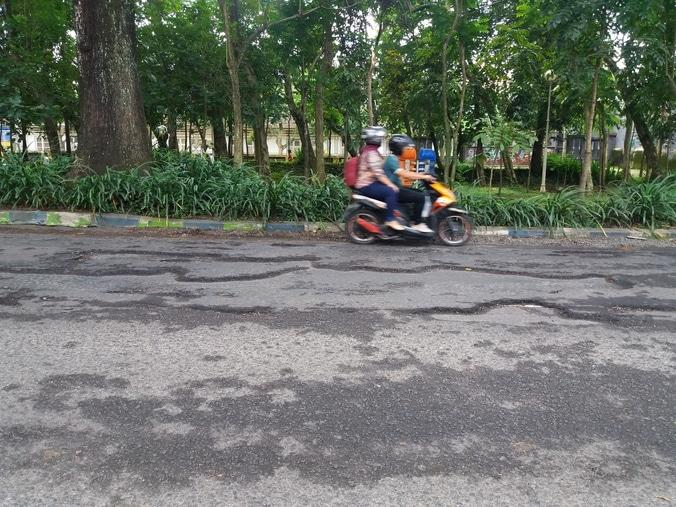Pothole: (0, 220, 676, 314), (383, 293, 676, 339)
